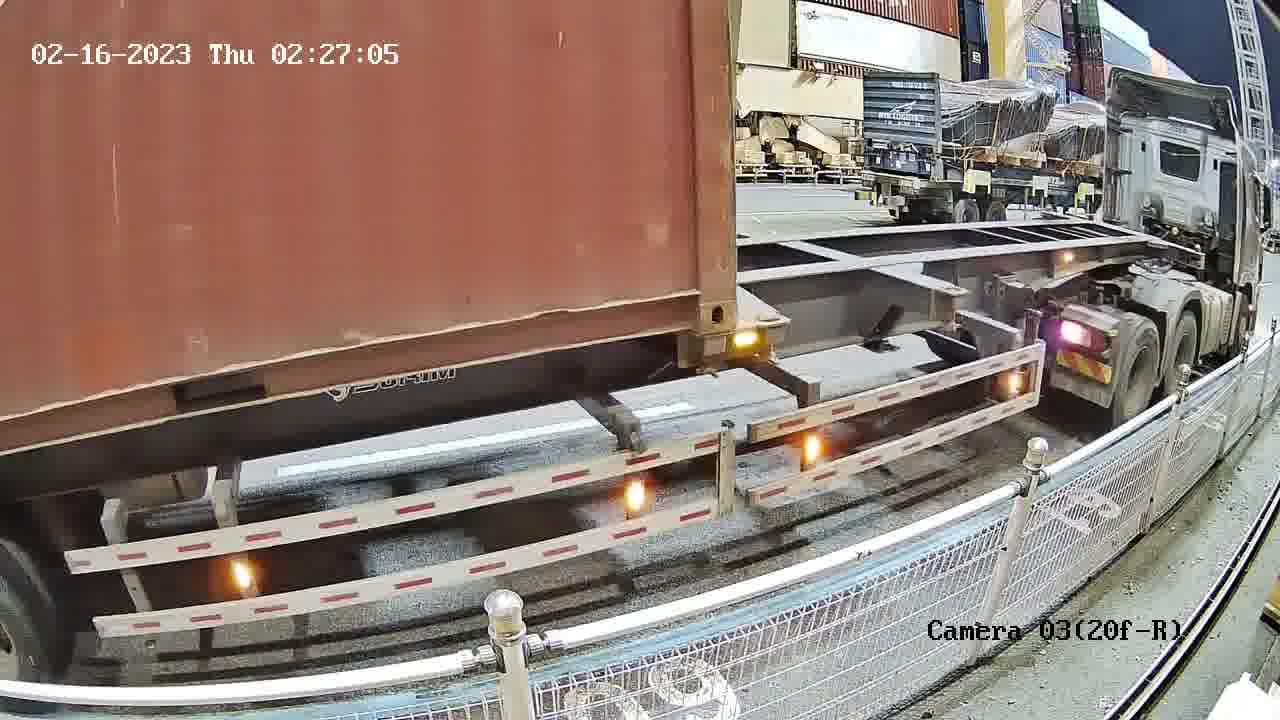Cone: (688, 332, 736, 377)
Hole_R: (655, 257, 736, 331)
Tire: (1116, 326, 1160, 415), (1169, 317, 1201, 376)
